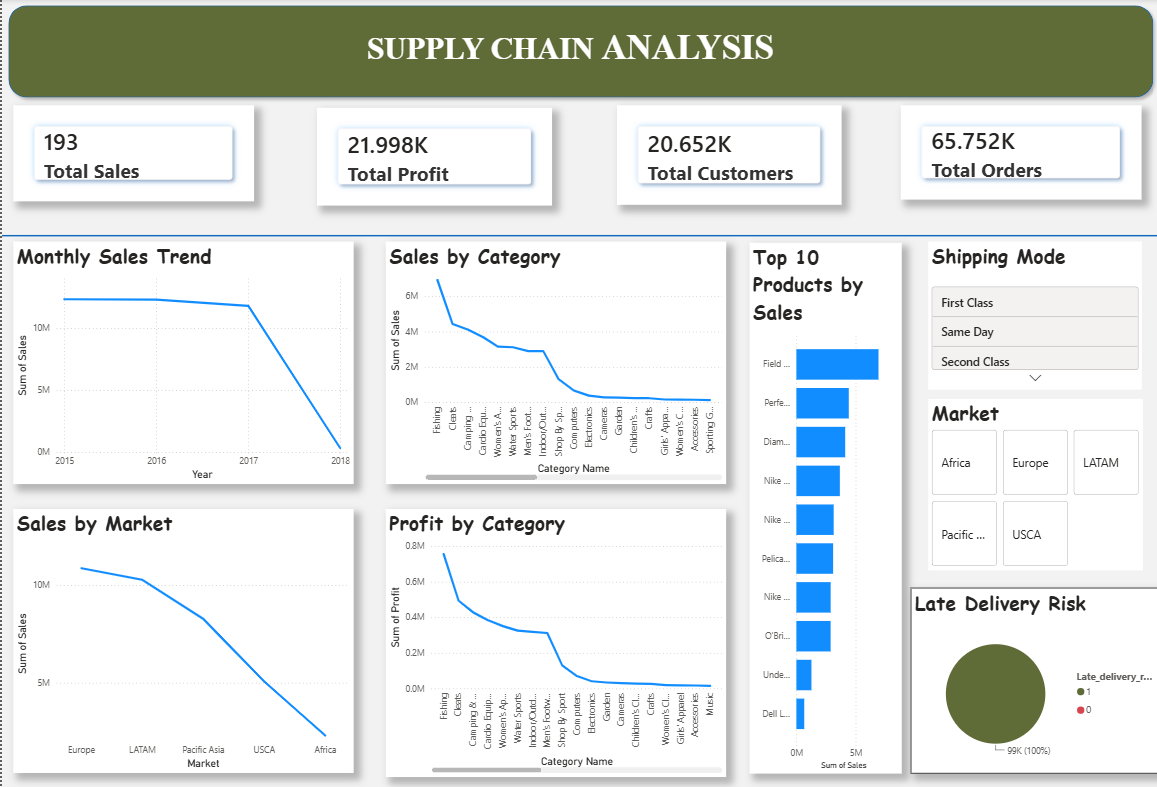

What the dashboard file says about the page in this screenshot:
{"tool":"powerbi","page":{"name":"Page 1","canvas":[1600,1100],"ordinal":0},"visuals":[{"type":"shape","box":[0,0,1600,145],"z":0},{"type":"textbox","box":[250,35,1070,75],"z":1},{"type":"shape","box":[0,320,1600,15],"z":2},{"type":"cardVisual","fields":{"Data":["Sum(Cleaned_Supply_Chain.Sales)"]},"box":[15,147.5,332.5,132.5],"z":3},{"type":"cardVisual","fields":{"Data":["Sum(Cleaned_Supply_Chain.Profit)"]},"box":[435,150,325,135],"z":4},{"type":"cardVisual","fields":{"Data":["Count(Cleaned_Supply_Chain.Order Id)"]},"box":[1242.5,147.5,332.5,130],"z":5},{"type":"cardVisual","fields":{"Data":["Count(Cleaned_Supply_Chain.Customer Id)"]},"box":[850,147.5,310,137.5],"z":6},{"type":"lineChart","title":"Monthly Sales Trend","fields":{"Category":["Cleaned_Supply_Chain.Order Date.Variation.Date Hierarchy.Year","Cleaned_Supply_Chain.Order Date.Variation.Date Hierarchy.Quarter","Cleaned_Supply_Chain.Order Date.Variation.Date Hierarchy.Month","Cleaned_Supply_Chain.Order Date.Variation.Date Hierarchy.Day"],"Y":["Sum(Cleaned_Supply_Chain.Sales)"]},"box":[15,335,470,335],"z":7},{"type":"lineChart","title":"Sales by Category","fields":{"Category":["Cleaned_Supply_Chain.Category Name"],"Y":["Sum(Cleaned_Supply_Chain.Sales)"]},"box":[530,335,470,335],"z":8},{"type":"lineChart","title":"Sales by Market","fields":{"Category":["Cleaned_Supply_Chain.Market"],"Y":["Sum(Cleaned_Supply_Chain.Sales)"]},"box":[15,705,470,365],"z":9},{"type":"lineChart","title":"Profit by Category","fields":{"Category":["Cleaned_Supply_Chain.Category Name"],"Y":["Sum(Cleaned_Supply_Chain.Profit)"]},"box":[530,705,470,370],"z":10},{"type":"clusteredBarChart","title":"Top 10 Products by Sales ","fields":{"Category":["Cleaned_Supply_Chain.Product Name"],"Y":["Sum(Cleaned_Supply_Chain.Sales)"]},"box":[1033.3,336.7,210,733.3],"z":11},{"type":"pieChart","title":"Late Delivery Risk","fields":{"Category":["Cleaned_Supply_Chain.Late_delivery_risk"],"Y":["CountNonNull(Cleaned_Supply_Chain.Late_delivery_risk)"]},"box":[1256.7,813.3,343.3,256.7],"z":12},{"type":"advancedSlicerVisual","fields":{"Values":["Cleaned_Supply_Chain.Market"]},"box":[1280,553.3,296.7,236.7],"z":13},{"type":"cardVisual","title":"Shipping Mode","fields":{"Rows":["Cleaned_Supply_Chain.Shipping Mode"]},"box":[1280,335,295,205],"z":14}]}

Visuals, with their boxes in screenshot pixels (x1, y1, x2, y2), scaled from the page's 1600x1100 canvas onto the 1157x787 screenshot:
shape: left=0, top=0, right=1156, bottom=104
textbox: left=181, top=25, right=955, bottom=79
shape: left=0, top=229, right=1156, bottom=240
cardVisual - Sum(Cleaned_Supply_Chain.Sales): left=11, top=106, right=251, bottom=200
cardVisual - Sum(Cleaned_Supply_Chain.Profit): left=315, top=107, right=550, bottom=204
cardVisual - Count(Cleaned_Supply_Chain.Order Id): left=898, top=106, right=1139, bottom=199
cardVisual - Count(Cleaned_Supply_Chain.Customer Id): left=615, top=106, right=839, bottom=204
"Monthly Sales Trend" lineChart: left=11, top=240, right=351, bottom=479
"Sales by Category" lineChart: left=383, top=240, right=723, bottom=479
"Sales by Market" lineChart: left=11, top=504, right=351, bottom=766
"Profit by Category" lineChart: left=383, top=504, right=723, bottom=769
"Top 10 Products by Sales " clusteredBarChart: left=747, top=241, right=899, bottom=766
"Late Delivery Risk" pieChart: left=909, top=582, right=1156, bottom=766
advancedSlicerVisual - Cleaned_Supply_Chain.Market: left=926, top=396, right=1140, bottom=565
"Shipping Mode" cardVisual: left=926, top=240, right=1139, bottom=386
